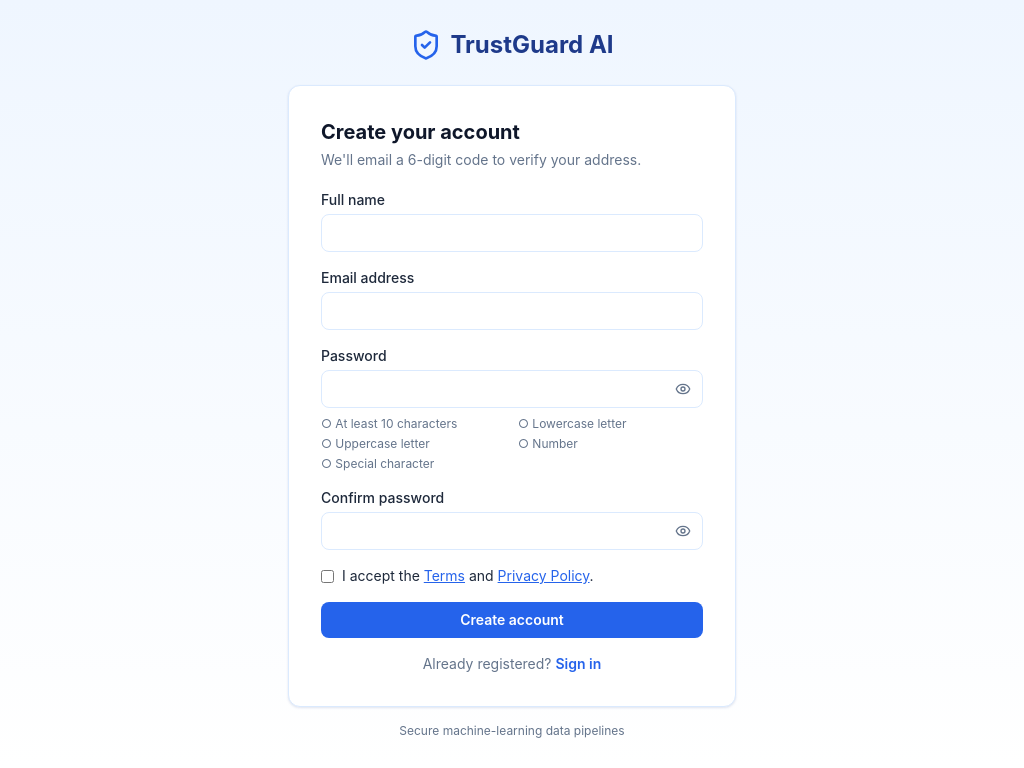
Test case: registration › flags mismatched passwords
In the password field labelled "Password": [512, 389] box top-left (321, 370), bottom-right (703, 408), type "Str0ng!Passw0rd"
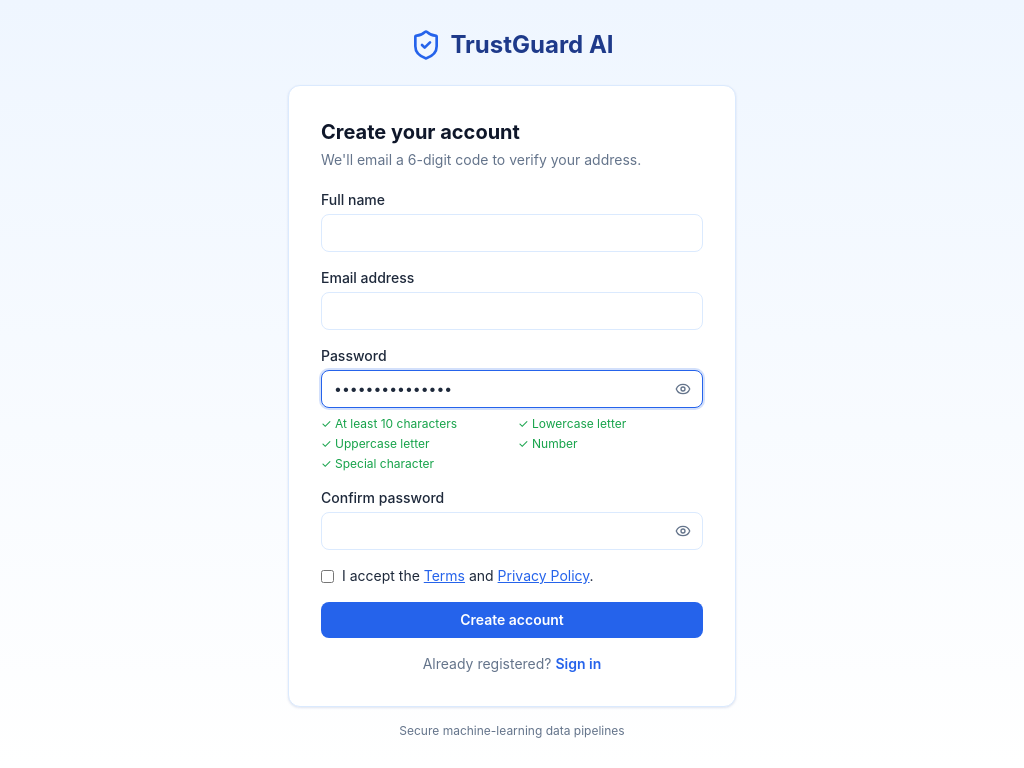
In the password field labelled "Confirm password": [512, 531] box top-left (321, 512), bottom-right (703, 550), type "Different!Pass1"
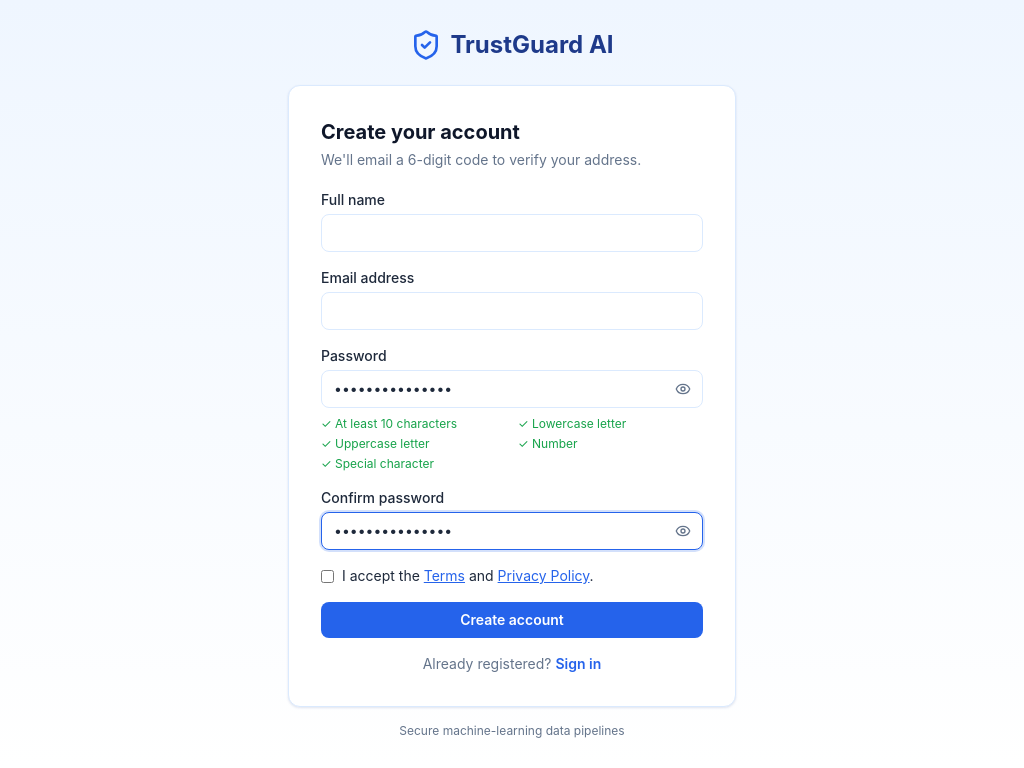
Click the button "Create account": [512, 620] box top-left (321, 602), bottom-right (703, 638)
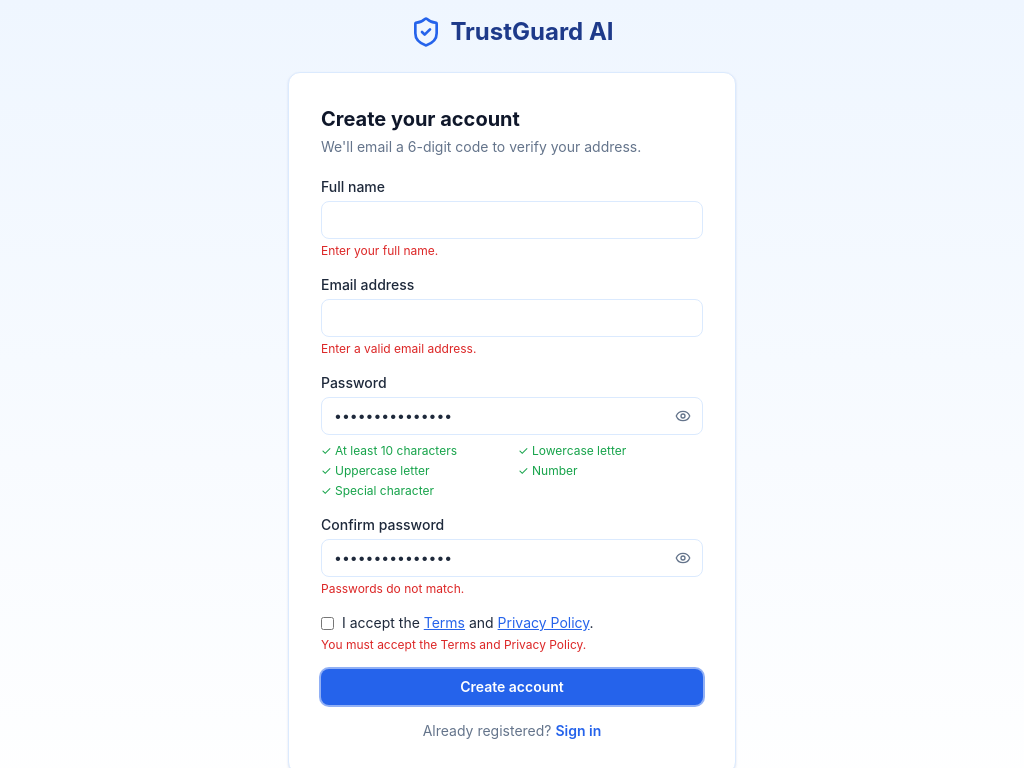
Check: the text "Passwords do not match." is shown, box top-left (321, 581), bottom-right (464, 596)
